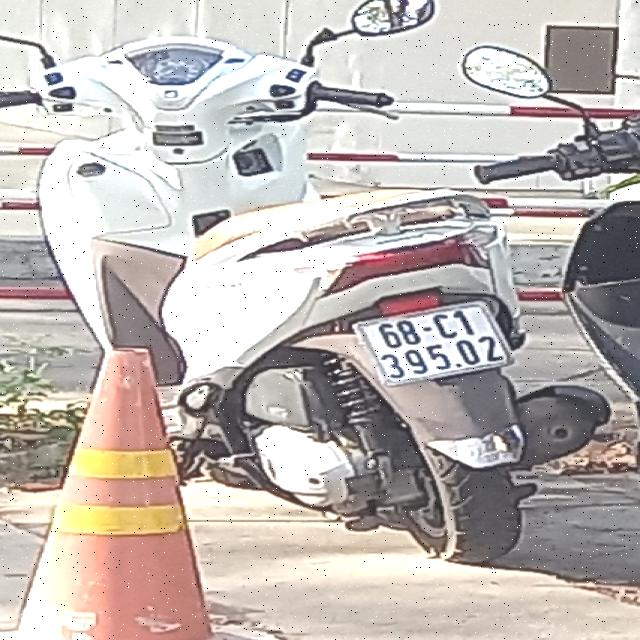0: (454, 340, 480, 364)
1: (452, 310, 477, 335)
2: (477, 335, 506, 361)
3: (380, 354, 404, 378)
5: (424, 344, 450, 369)
6: (378, 324, 403, 348)
8: (396, 320, 422, 344)
9: (405, 349, 429, 375)
C: (433, 314, 458, 338)
